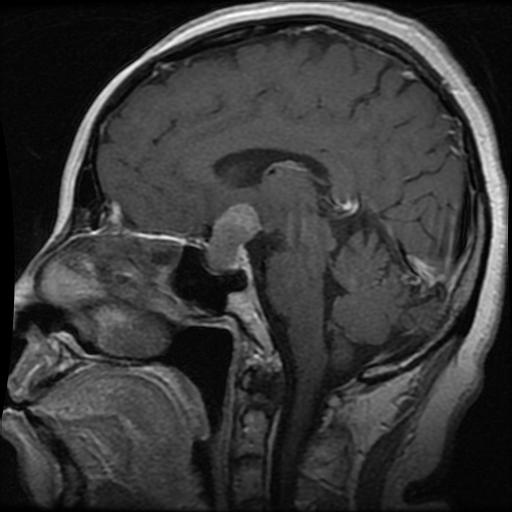Pituirity_tumour: (207, 204, 260, 271)
